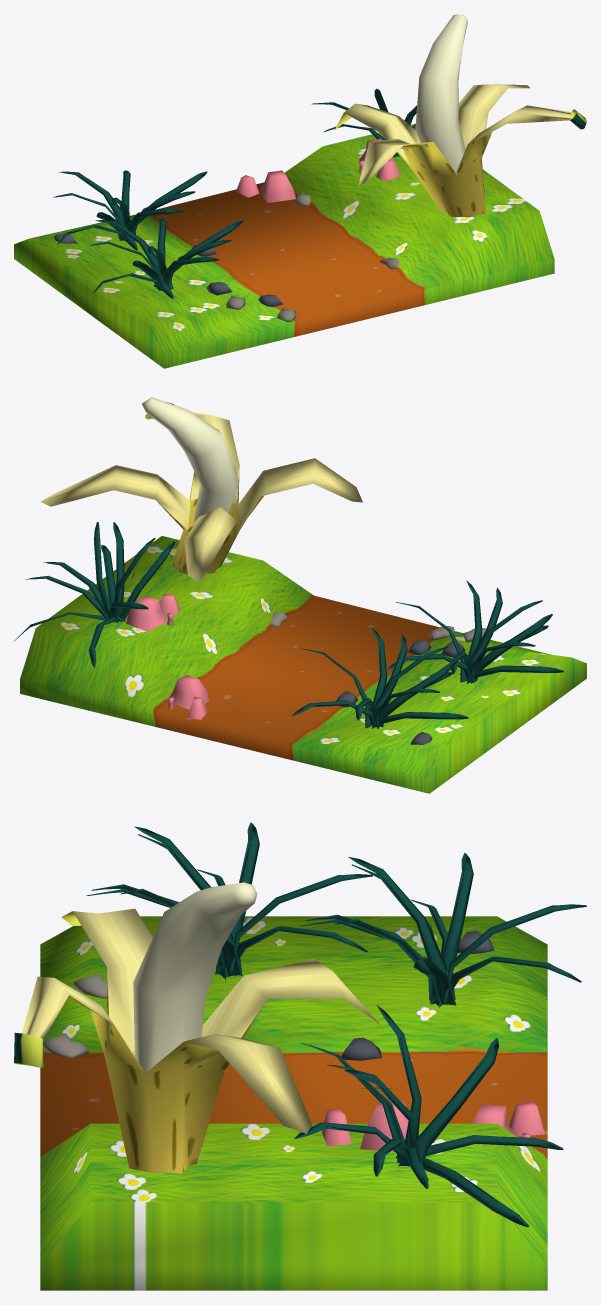
Rendered from D_block_15.FBX.
The picture shows the model from 3 angles, top to bottom: view 1: azimuth 30°, elevation 25°; view 2: azimuth 150°, elevation 25°; view 3: azimuth 270°, elevation 25°; orthographic projection. The views are drawn at different scales.
Parts seen in each view (by area): view 1: biomes_03; view 2: biomes_03; view 3: biomes_03.
Part boxes in pixels (x1,y1,x2,y2): biomes_03: (14,14,586,368); biomes_03: (14,397,586,793); biomes_03: (14,822,586,1290).
Size of the model in its own units: 1077 by 515 by 677.
